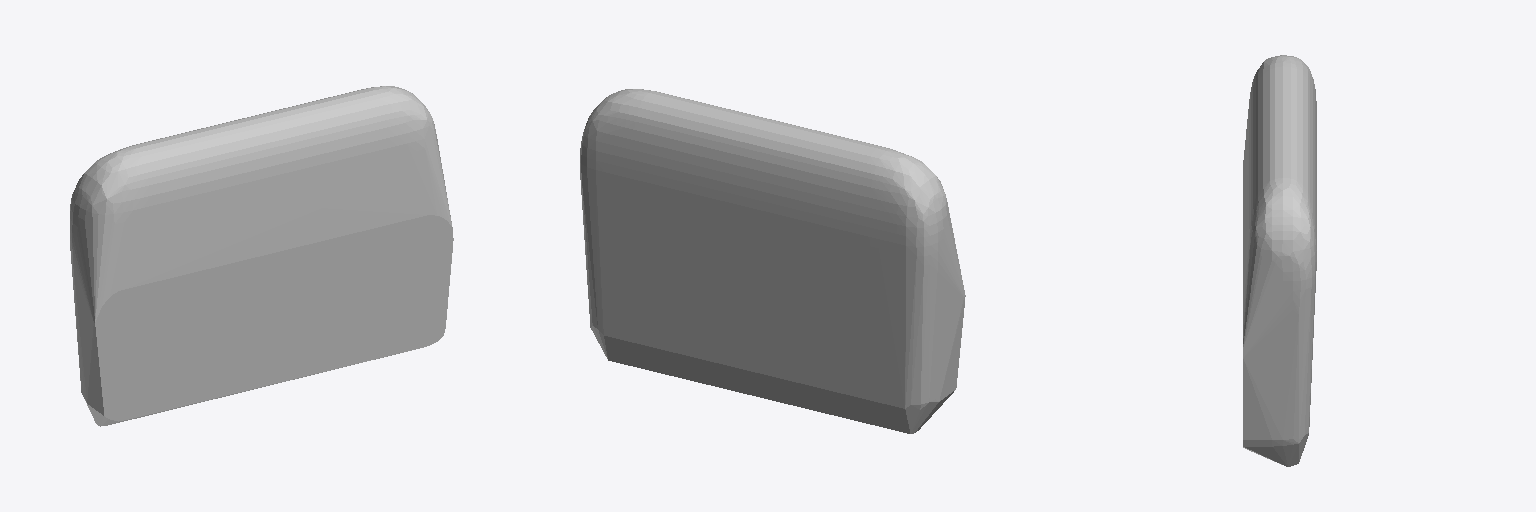
Rendered from sofa_collision_3.obj.
3 views of the same model, side by side, from view 1: azimuth 30°, elevation 25°; view 2: azimuth 150°, elevation 25°; view 3: azimuth 270°, elevation 25° (orthographic).
Bounding box in the file's own units: 367 × 265 × 65.27.